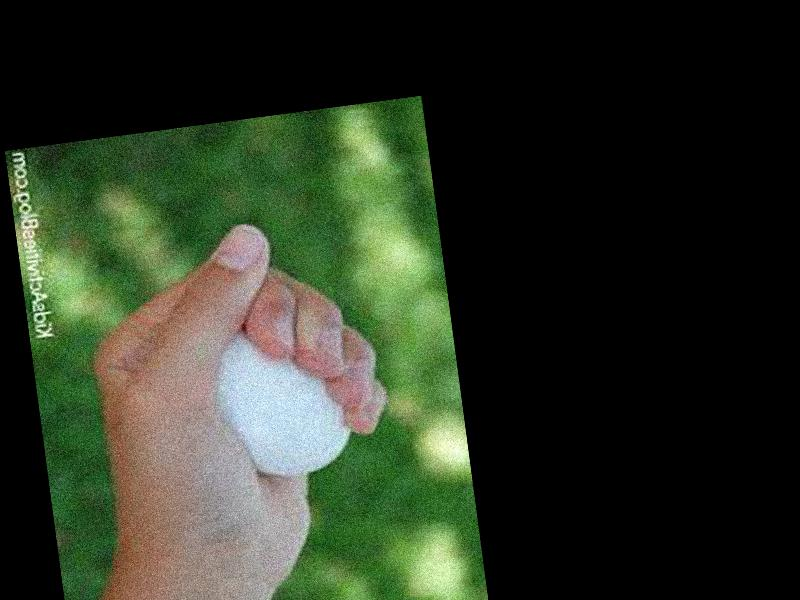Eggs: (209, 318, 356, 482)
